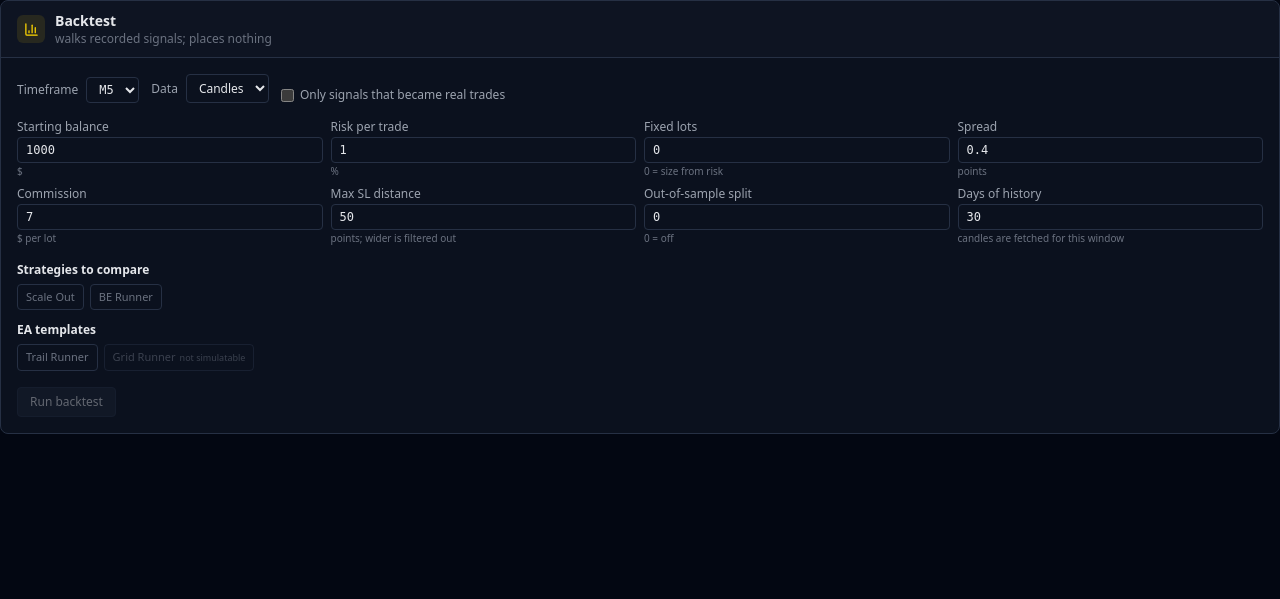
Test case: the results › says there was nothing to walk rather than showing an empty table
Click the button "Scale Out" at [50, 297], box top-left (17, 284), bottom-right (84, 310)
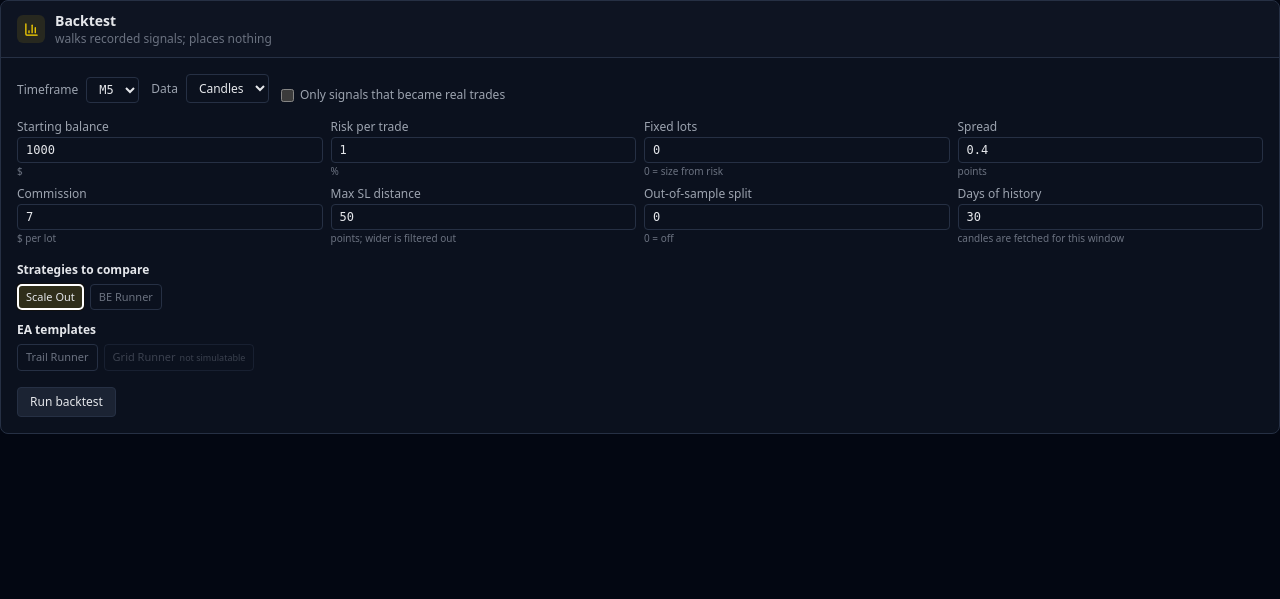
Click the button "Run backtest" at [66, 402], box top-left (17, 387), bottom-right (116, 417)
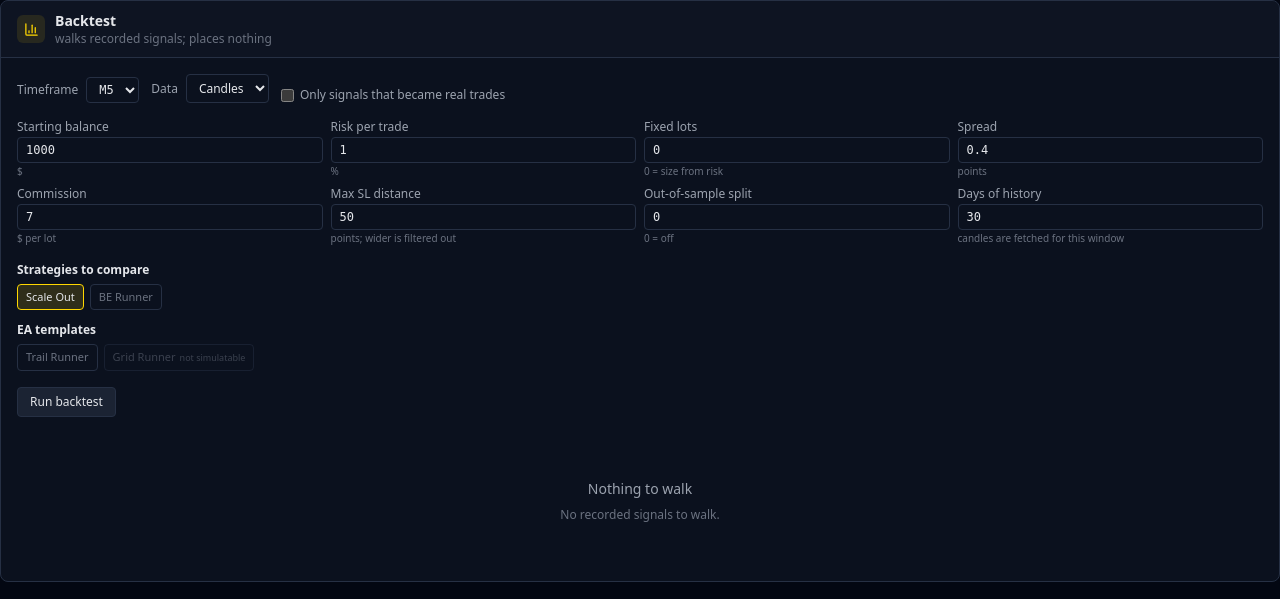
Expected: the text "Nothing to walk" is shown, top-left (588, 479), bottom-right (692, 499)
